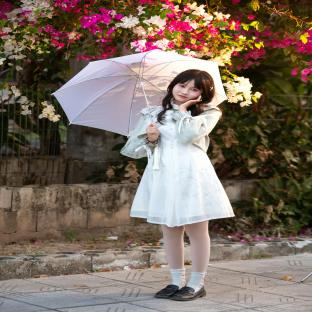Human: (121, 69, 233, 301)
